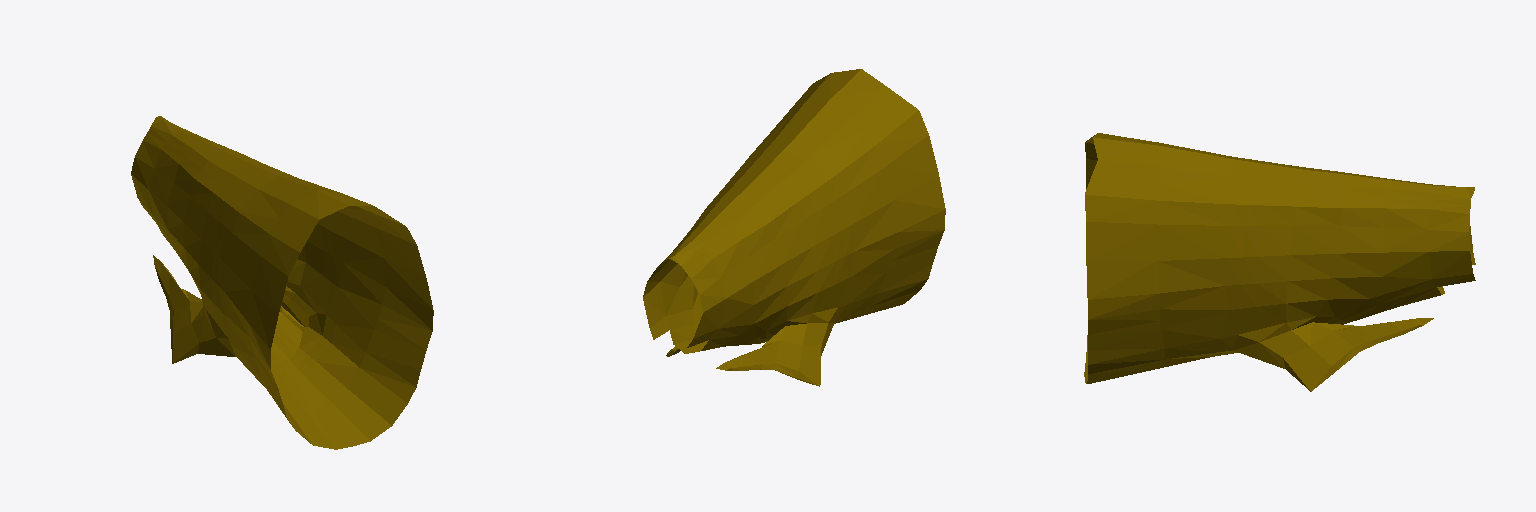
Rendered from tbTorzoBajo.obj.
3 renders of one model, left to right at view 1: azimuth 30°, elevation 25°; view 2: azimuth 150°, elevation 25°; view 3: azimuth 270°, elevation 25°, orthographic.
Visible parts, largest first — view 1: Object001; view 2: Object001; view 3: Object001.
Boxes of the visible parts, box(x1,y1,x2,y2) form: Object001: box(131, 116, 433, 449); Object001: box(643, 69, 945, 386); Object001: box(1084, 133, 1475, 391).
Size of the model in its own units: 2.85 by 3.96 by 5.92.